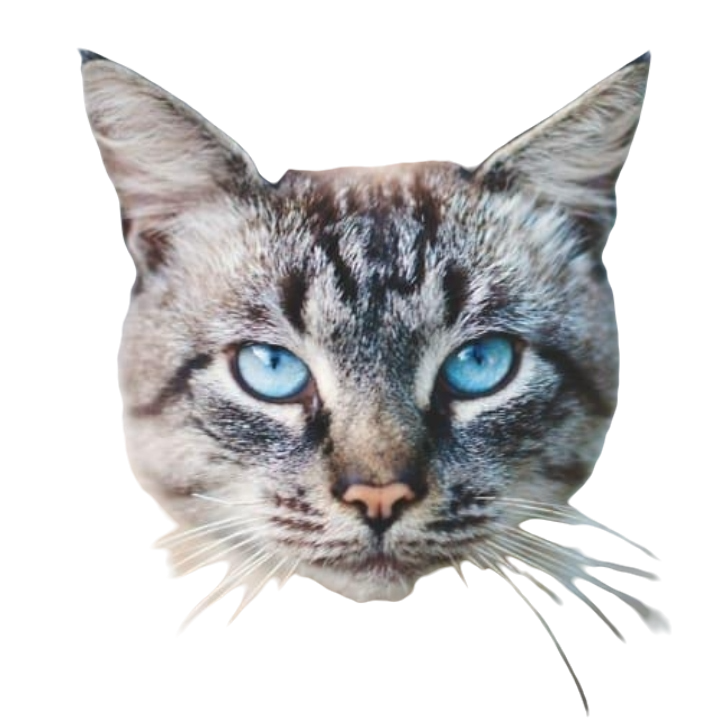Cat: (52, 41, 693, 712)
